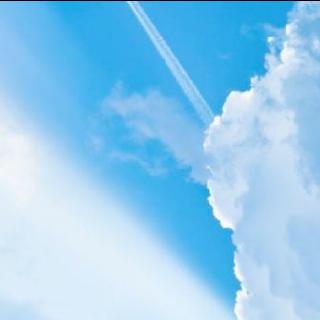Contrails: (68, 0, 254, 162)
